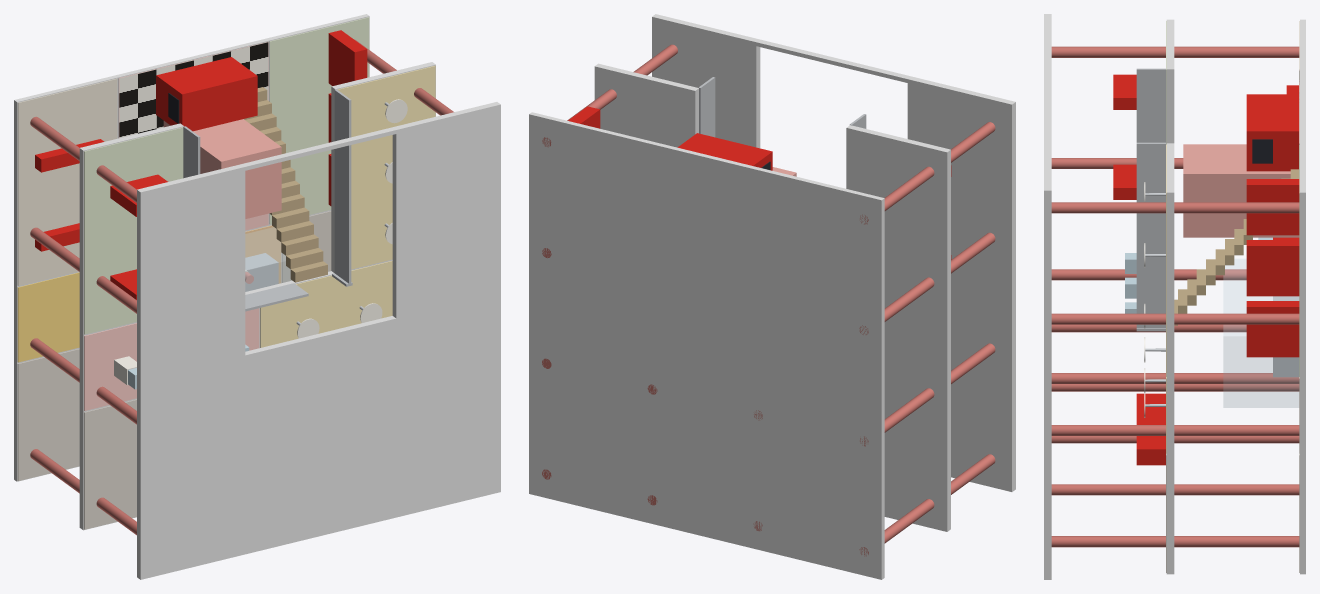
The model's file is interior.glb.
3 views of the same model, side by side, from view 1: azimuth 30°, elevation 25°; view 2: azimuth 150°, elevation 25°; view 3: azimuth 270°, elevation 25° (orthographic).
Visible parts, largest first — view 1: 屋根(コの字), 1F_西ウイング_カフェ席, 2F_西ウイング_グッズ, 1F_東ウイング_陳列グッズ, 2F_東ウイング_ダイナー, 1F_搬入ゴミ, 2F_ダイナー奥, 車顔ショーケース, 2F_事務休憩在庫, 大ぬいぐるみ, 階段, 1F_ドリンク準備_レジバック (+21 smaller); view 2: 1F 床, 屋根(コの字), 2F 床(コの字), 車顔ショーケース, 柱_1, 柱_4, 柱_3, 柱_2, 手すり_東, 柱_12; view 3: 工房ガラス, 大ぬいぐるみ, 2F 床(コの字), 手すり_東, 屋根(コの字), 車顔ショーケース, 1F 床, 陳列棚_2, 柱_4, 柱_7, 柱_9, 柱_11 (+17 smaller).
Part boxes in pixels (x1,y1,x2,y2): 屋根(コの字): (137, 102, 500, 579); 1F_西ウイング_カフェ席: (17, 78, 117, 285); 2F_西ウイング_グッズ: (84, 127, 183, 334); 1F_東ウイング_陳列グッズ: (269, 17, 369, 224); 2F_東ウイング_ダイナー: (337, 65, 435, 269); 1F_搬入ゴミ: (17, 348, 79, 480); 2F_ダイナー奥: (260, 260, 392, 347); 車顔ショーケース: (156, 57, 257, 131); 2F_事務休憩在庫: (84, 399, 136, 529); 大ぬいぐるみ: (163, 119, 281, 218); 階段: (244, 87, 327, 282); 1F_ドリンク準備_レジバック: (17, 272, 79, 362); 1F 床: (529, 112, 884, 579); 屋根(コの字): (652, 14, 1015, 491); 2F 床(コの字): (594, 63, 950, 531); 車顔ショーケース: (677, 133, 772, 170); 柱_1: (859, 454, 995, 556); 柱_4: (860, 122, 995, 224); 柱_3: (859, 232, 995, 334); 柱_2: (860, 343, 995, 446); 手すり_東: (698, 77, 715, 137); 柱_12: (542, 44, 677, 147); 工房ガラス: (1223, 259, 1298, 407); 大ぬいぐるみ: (1183, 144, 1299, 237); 2F 床(コの字): (1166, 19, 1174, 574); 手すり_東: (1136, 142, 1165, 327); 屋根(コの字): (1044, 14, 1051, 579); 車顔ショーケース: (1246, 94, 1298, 171); 1F 床: (1300, 19, 1305, 574); 陳列棚_2: (1246, 240, 1299, 296); 柱_4: (1051, 46, 1299, 57); 柱_7: (1051, 484, 1299, 495); 柱_9: (1051, 536, 1299, 547); 柱_11: (1051, 313, 1299, 324).
Size of the model in its own units: 14300 by 14700 by 8960.
80 materials, 1 textured.
